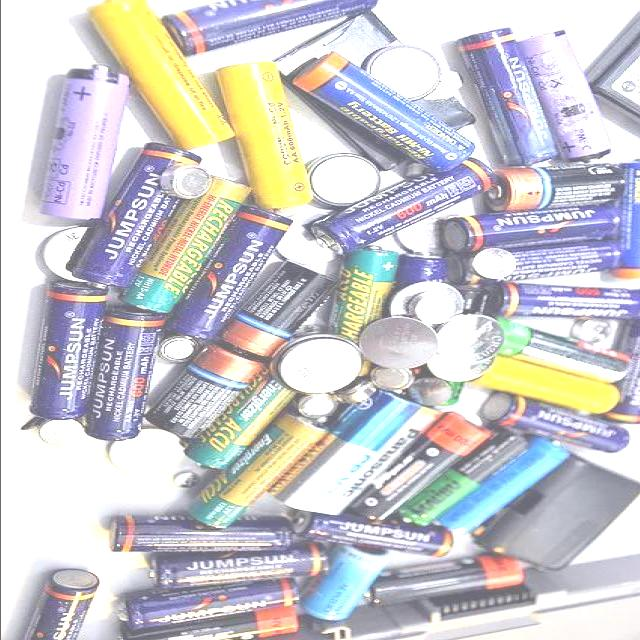AA: (78, 0, 239, 153), (289, 49, 480, 176), (303, 153, 496, 260), (69, 140, 205, 290), (117, 172, 255, 316), (158, 204, 295, 345), (177, 411, 330, 533), (341, 409, 495, 525), (211, 59, 316, 214), (34, 63, 133, 224), (450, 25, 560, 169), (509, 29, 620, 166), (157, 0, 382, 59), (26, 281, 112, 424), (83, 308, 167, 443), (476, 392, 634, 458), (436, 204, 621, 259), (103, 514, 305, 555), (484, 281, 640, 321)
COIN: (265, 333, 367, 394), (357, 43, 445, 104), (356, 315, 441, 373), (302, 150, 382, 207), (104, 426, 184, 478), (432, 313, 506, 366)
